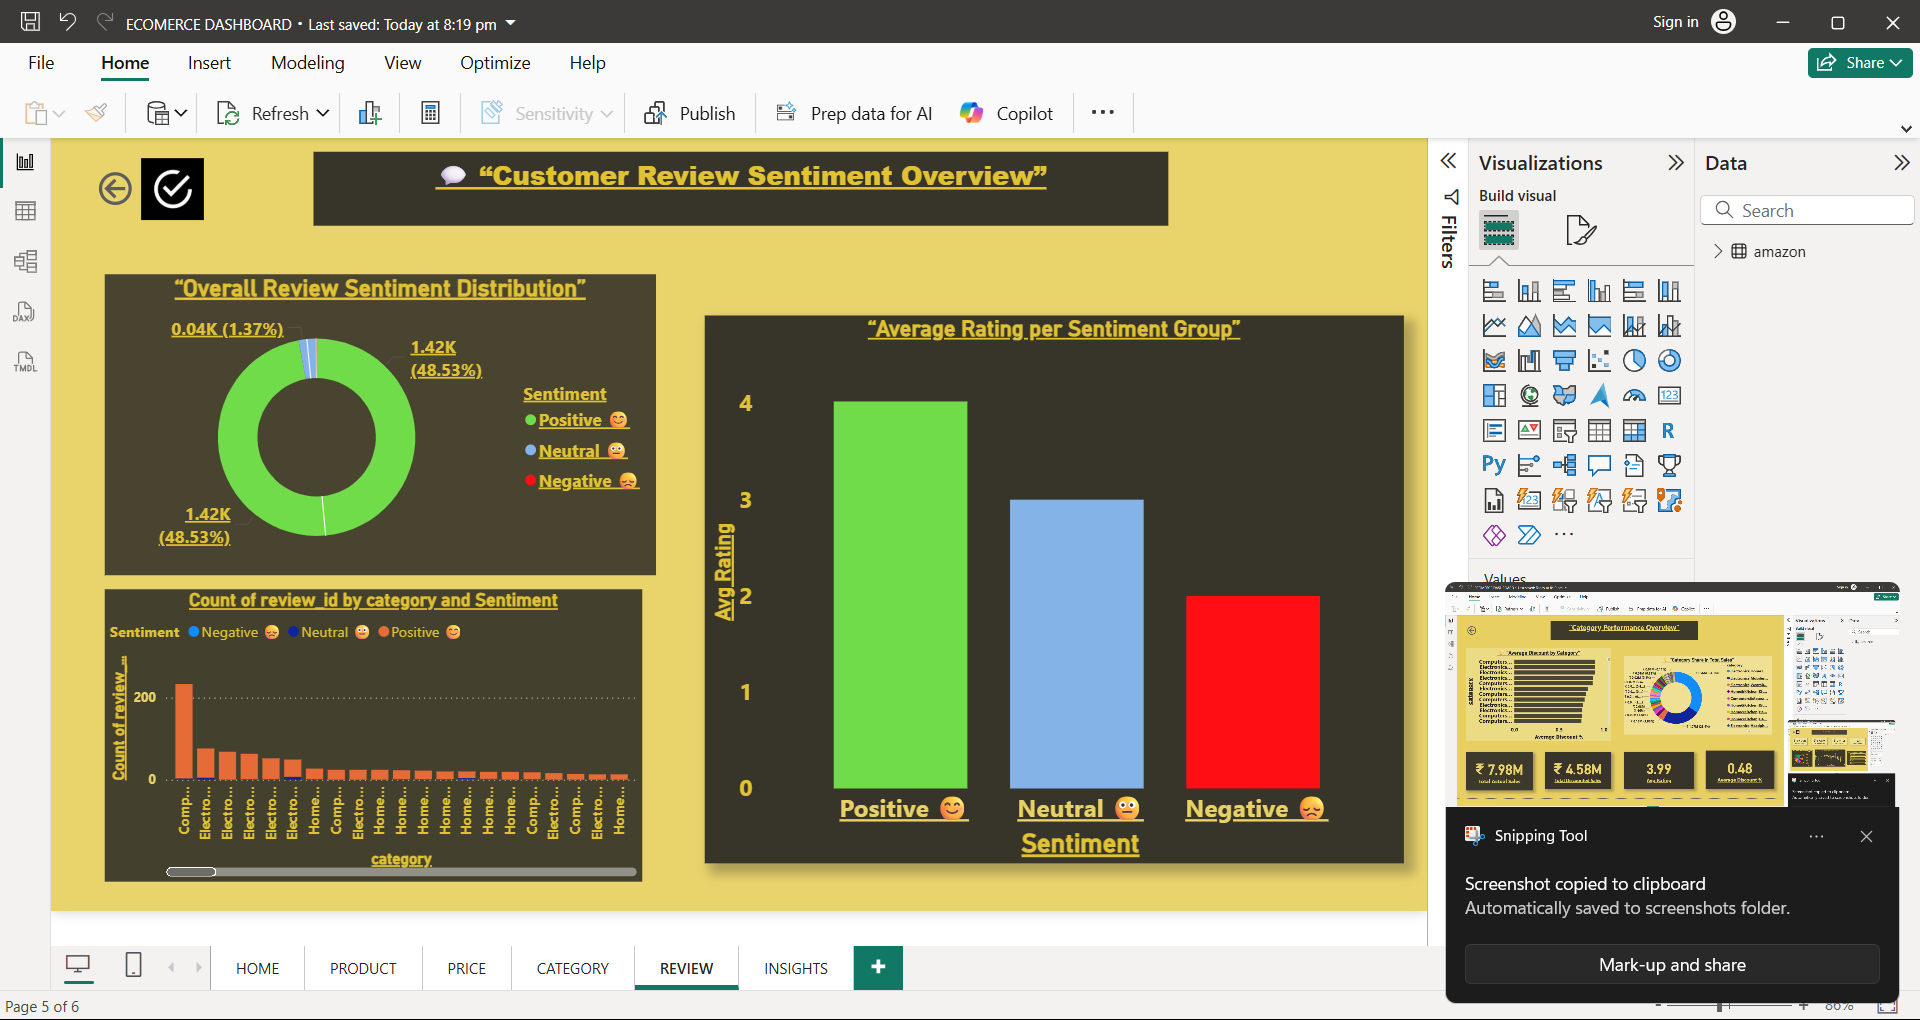

This screenshot's page, from the dashboard's own definition file:
{"tool":"powerbi","page":{"name":"REVIEW","canvas":[1280,720],"ordinal":4},"visuals":[{"type":"donutChart","title":"“Overall Review Sentiment Distribution”","fields":{"Category":["amazon.Sentiment"],"Y":["CountNonNull(amazon.review_id)","CountNonNull(amazon.review_content)"]},"box":[50,126.6,512.5,279.7],"z":0},{"type":"lineClusteredColumnComboChart","title":"“Average Rating per Sentiment Group”","fields":{"Category":["amazon.Sentiment"],"Y":["amazon.Avg Rating"]},"box":[607.8,165.6,650,509.4],"z":1000},{"type":"columnChart","fields":{"Series":["amazon.Sentiment"],"Category":["amazon.category"],"Y":["CountNonNull(amazon.review_id)"]},"box":[50,420.3,500,271.9],"z":2000},{"type":"textbox","box":[243.8,12.5,795.3,68.8],"z":3000},{"type":"actionButton","box":[39.1,26.6,100,40.6],"z":4000},{"type":"image","box":[68.8,14.1,89.1,67.2],"z":5000}]}

Visuals, with their boxes on the page's 1280x720 design canvas (x1, y1, x2, y2). These are canvas units, not pixel positions in the 1920x1020 screenshot, which may show the page scaled, cropped or inside an application window:
"“Overall Review Sentiment Distribution”" donutChart: region(50, 127, 562, 406)
"“Average Rating per Sentiment Group”" lineClusteredColumnComboChart: region(608, 166, 1258, 675)
columnChart - amazon.Sentiment x amazon.category: region(50, 420, 550, 692)
textbox: region(244, 12, 1039, 81)
actionButton: region(39, 27, 139, 67)
image: region(69, 14, 158, 81)
